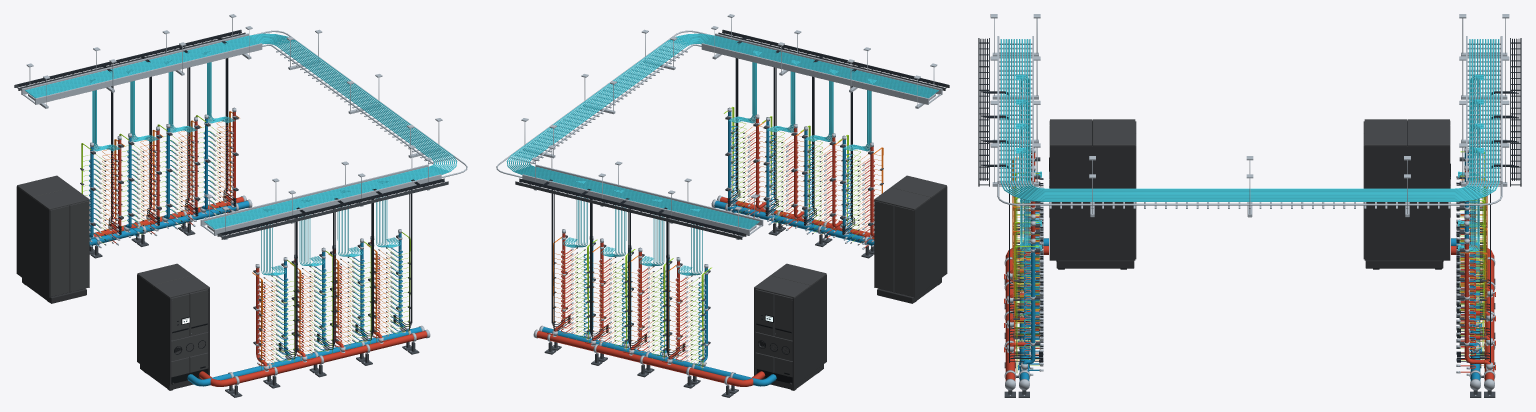
Rendered from VRG_Infrastructure.fbx.
The picture shows the model from 3 angles, left to right: view 1: azimuth 30°, elevation 25°; view 2: azimuth 150°, elevation 25°; view 3: azimuth 270°, elevation 25°; orthographic projection. The views are drawn at different scales.
Visible parts, largest first — view 1: B_CDU_Cabinet_Mesh, A_CDU_Cabinet_Mesh, B_Overhead_Ladder_Tray_Mesh, A_Overhead_Ladder_Tray_Mesh, B_Pipe_Couplings_Mesh, A_Pipe_Couplings_Mesh, A_RETURN_Header_Mesh, TRAY_Crossover_Rungs_Mesh, A_SUPPLY_Header_Mesh, TRUNK_Data_04_Mesh, A_Power_Tray_Mesh, TRUNK_Data_03_Mesh (+16 smaller); view 2: A_CDU_Cabinet_Mesh, B_CDU_Cabinet_Mesh, A_Overhead_Ladder_Tray_Mesh, B_Overhead_Ladder_Tray_Mesh, A_Pipe_Couplings_Mesh, B_Pipe_Couplings_Mesh, B_RETURN_Header_Mesh, TRAY_Crossover_Rungs_Mesh, B_SUPPLY_Header_Mesh, TRUNK_Data_04_Mesh, TRUNK_Data_03_Mesh, TRUNK_Data_05_Mesh (+16 smaller); view 3: A_CDU_Cabinet_Mesh, B_CDU_Cabinet_Mesh, A_Overhead_Ladder_Tray_Mesh, B_Overhead_Ladder_Tray_Mesh, A_Pipe_Couplings_Mesh, TRUNK_Data_03_Mesh, B_Pipe_Couplings_Mesh, TRUNK_Data_11_Mesh, TRAY_Crossover_Rail_-1_Mesh, TRUNK_Data_01_Mesh, TRUNK_Data_02_Mesh, TRUNK_Data_04_Mesh (+18 smaller).
Boxes of the visible parts, <box> form: B_CDU_Cabinet_Mesh: <box>16,175,89,303</box>; A_CDU_Cabinet_Mesh: <box>137,263,209,390</box>; B_Overhead_Ladder_Tray_Mesh: <box>21,14,262,108</box>; A_Overhead_Ladder_Tray_Mesh: <box>200,145,441,239</box>; B_Pipe_Couplings_Mesh: <box>89,107,252,255</box>; A_Pipe_Couplings_Mesh: <box>227,229,430,395</box>; A_RETURN_Header_Mesh: <box>198,331,427,386</box>; TRAY_Crossover_Rungs_Mesh: <box>276,29,453,163</box>; A_SUPPLY_Header_Mesh: <box>187,327,421,386</box>; TRUNK_Data_04_Mesh: <box>28,36,451,228</box>; A_Power_Tray_Mesh: <box>217,178,448,239</box>; TRUNK_Data_03_Mesh: <box>27,35,453,228</box>; A_CDU_Cabinet_Mesh: <box>874,175,947,303</box>; B_CDU_Cabinet_Mesh: <box>754,263,826,390</box>; A_Overhead_Ladder_Tray_Mesh: <box>701,14,942,108</box>; B_Overhead_Ladder_Tray_Mesh: <box>522,145,763,239</box>; A_Pipe_Couplings_Mesh: <box>711,107,873,255</box>; B_Pipe_Couplings_Mesh: <box>533,229,736,395</box>; B_RETURN_Header_Mesh: <box>536,331,765,386</box>; TRAY_Crossover_Rungs_Mesh: <box>510,29,687,163</box>; B_SUPPLY_Header_Mesh: <box>542,327,776,386</box>; TRUNK_Data_04_Mesh: <box>512,36,935,228</box>; TRUNK_Data_03_Mesh: <box>510,35,936,228</box>; TRUNK_Data_05_Mesh: <box>514,37,934,227</box>; A_CDU_Cabinet_Mesh: <box>1048,119,1136,269</box>; B_CDU_Cabinet_Mesh: <box>1363,119,1451,269</box>; A_Overhead_Ladder_Tray_Mesh: <box>990,14,1040,186</box>; B_Overhead_Ladder_Tray_Mesh: <box>1459,14,1509,186</box>; A_Pipe_Couplings_Mesh: <box>1004,147,1043,395</box>; TRUNK_Data_03_Mesh: <box>1005,39,1494,199</box>; B_Pipe_Couplings_Mesh: <box>1456,147,1495,395</box>; TRUNK_Data_11_Mesh: <box>1026,39,1473,190</box>; TRAY_Crossover_Rail_-1_Mesh: <box>997,184,1502,205</box>; TRUNK_Data_01_Mesh: <box>1000,39,1499,201</box>; TRUNK_Data_02_Mesh: <box>1003,39,1496,200</box>; TRUNK_Data_04_Mesh: <box>1008,39,1491,198</box>.
Size of the model in its own units: 4.98 by 6.21 by 3.24.
